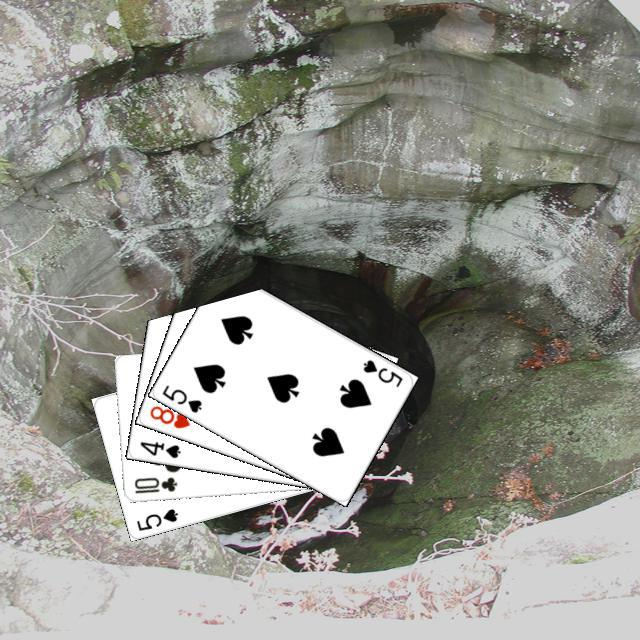10c: (129, 472, 179, 495)
4s: (135, 437, 182, 460)
5s: (157, 380, 204, 414), (358, 355, 404, 389), (131, 504, 180, 532)
8h: (145, 401, 192, 430)
